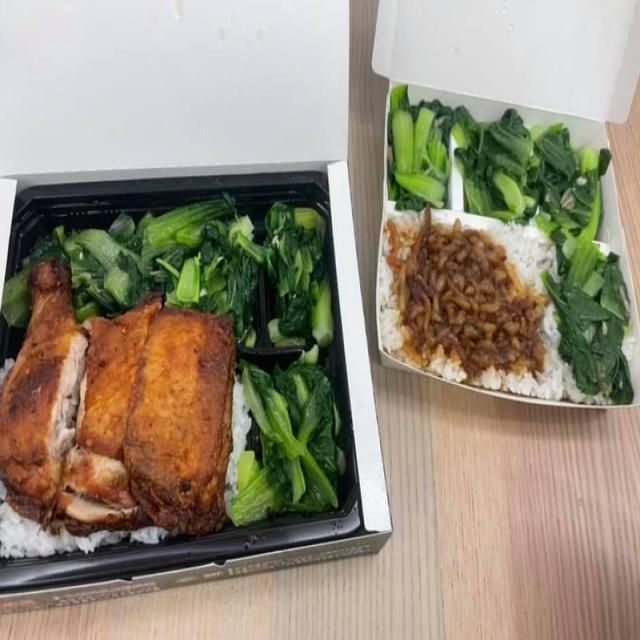Chicken Leg Steak: (28, 275, 231, 535)
Fushan-lettuce: (258, 233, 348, 508), (392, 90, 602, 206), (563, 243, 618, 394)
rice: (388, 214, 552, 381)
